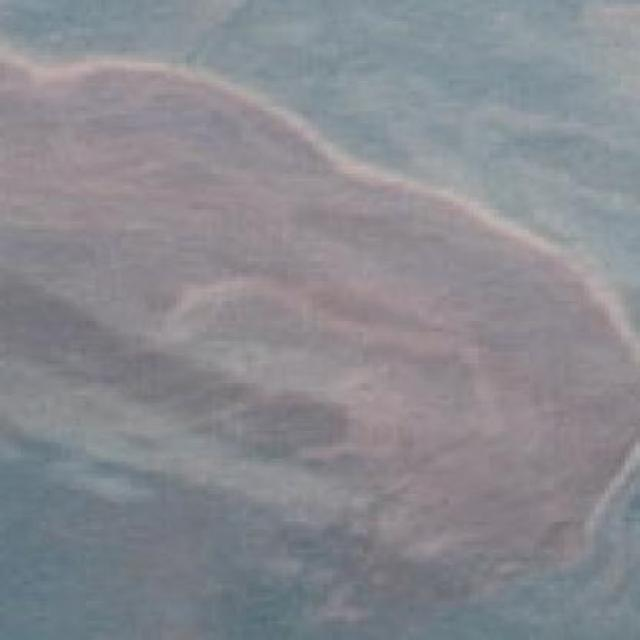sheen: (0, 57, 640, 639)
